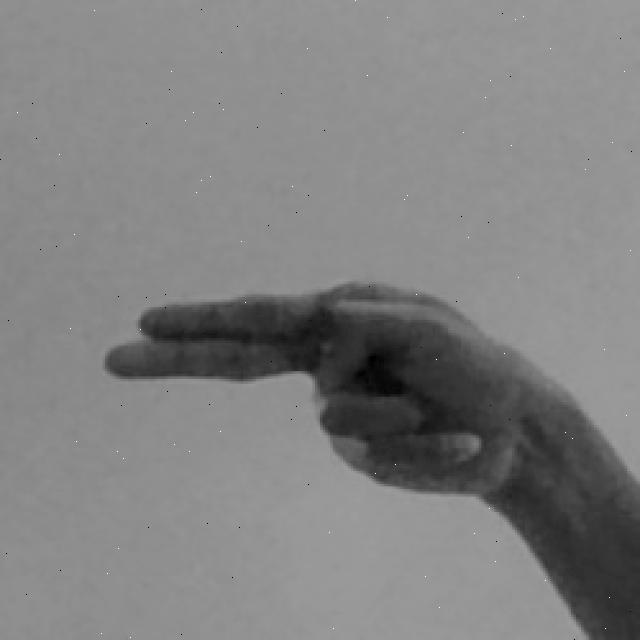H: (94, 273, 640, 640)
